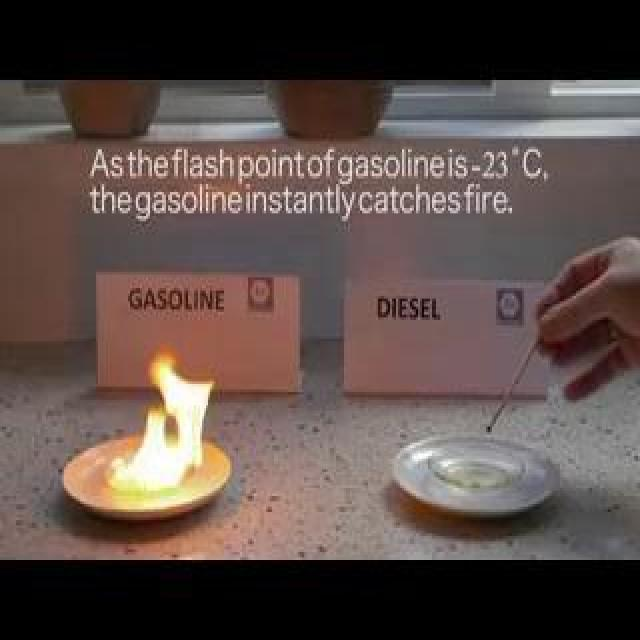Fire: (109, 372, 249, 487)
